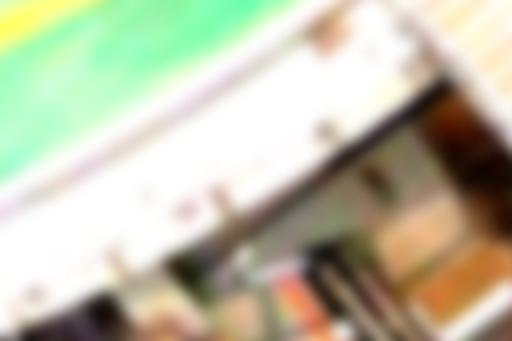Apron: (1, 1, 102, 65)
